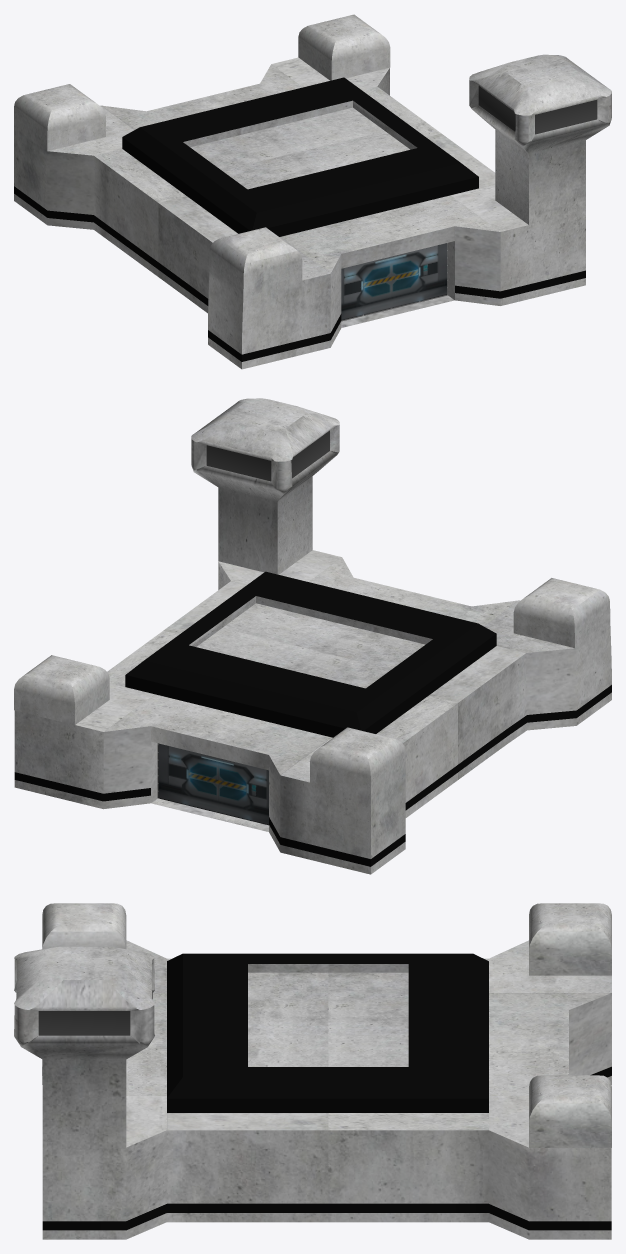
File: bunker2.0.fbx
3 renders of one model, top to bottom at view 1: azimuth 30°, elevation 25°; view 2: azimuth 150°, elevation 25°; view 3: azimuth 270°, elevation 25°, orthographic. The views are drawn at different scales.
Parts seen in each view (by area): view 1: polySurface2, polySurface3, polySurface1; view 2: polySurface2, polySurface3, polySurface1; view 3: polySurface2, polySurface1, polySurface3.
Boxes of the visible parts, <box> form: polySurface2: <box>14,54,611,369</box>; polySurface3: <box>298,14,390,80</box>; polySurface1: <box>14,84,105,150</box>; polySurface2: <box>14,398,611,874</box>; polySurface3: <box>14,655,109,724</box>; polySurface1: <box>310,727,405,797</box>; polySurface2: <box>14,903,611,1239</box>; polySurface1: <box>529,903,611,975</box>; polySurface3: <box>529,1075,611,1147</box>.
Size of the model in its own units: 25.67 by 14.09 by 29.46.
4 materials, 1 textured.
